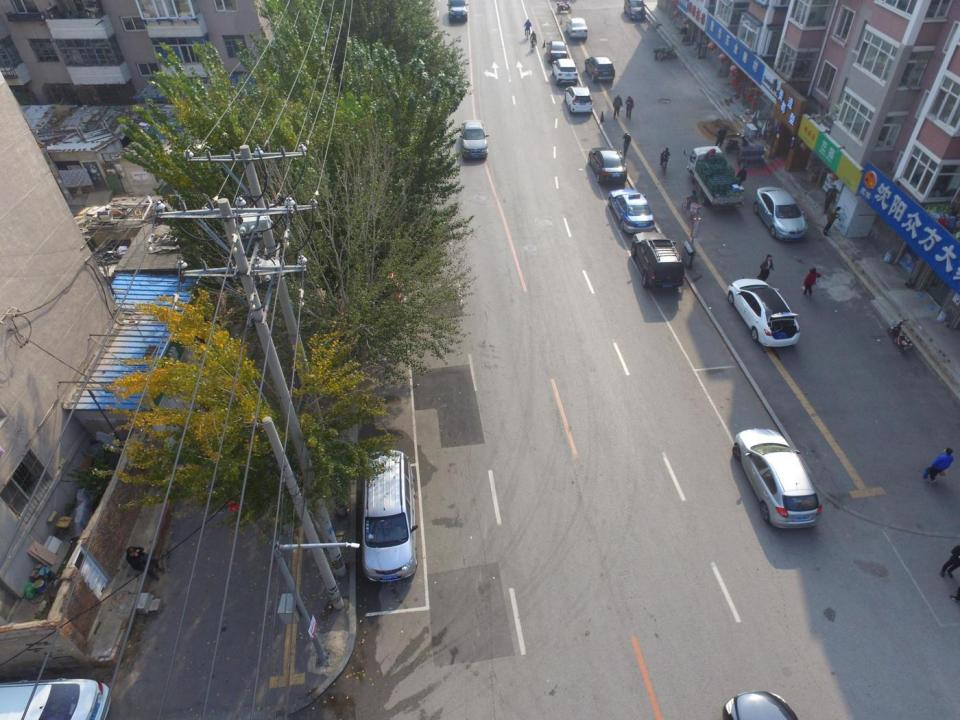car: (732, 426, 822, 531), (728, 277, 802, 350), (0, 677, 112, 720), (629, 231, 686, 293), (752, 185, 808, 243), (608, 188, 656, 234), (588, 147, 626, 185), (459, 118, 489, 160), (564, 85, 594, 116), (584, 56, 616, 84), (551, 58, 579, 86), (546, 40, 569, 64), (566, 17, 588, 41), (446, 0, 468, 23), (623, 0, 647, 20)
truck: (684, 145, 745, 212)
van: (361, 448, 418, 583)
